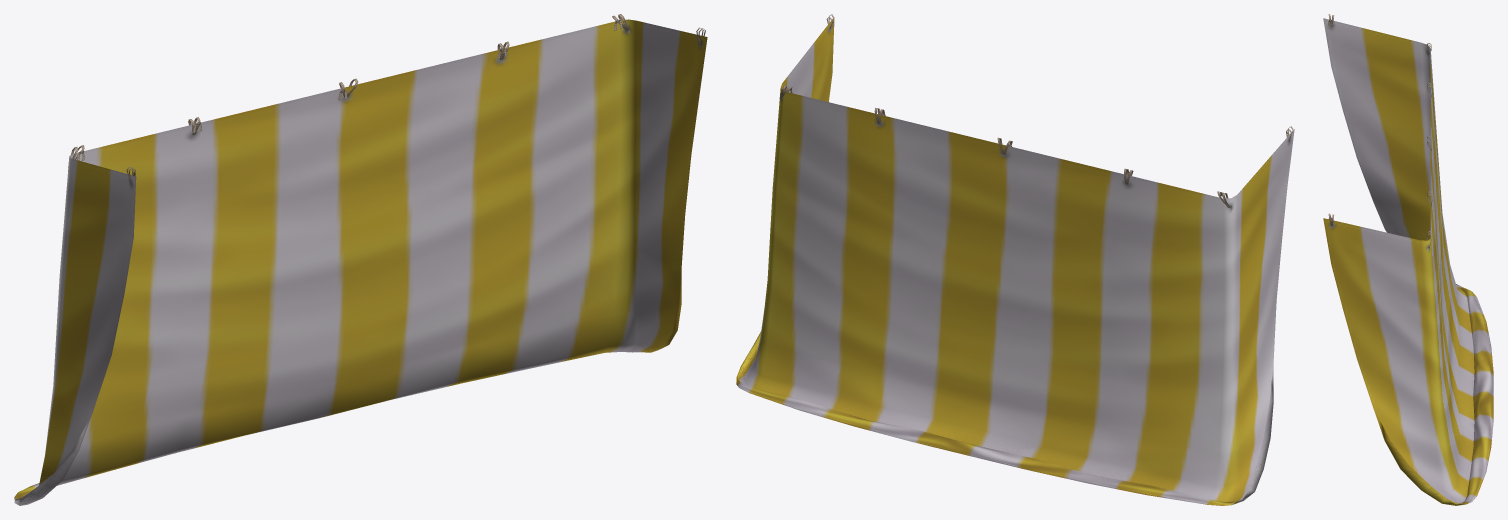
The model's file is jsf_BackSide_s03_c03_t01.fbx.
3 views of the same model, side by side, from view 1: azimuth 30°, elevation 25°; view 2: azimuth 150°, elevation 25°; view 3: azimuth 270°, elevation 25° (orthographic). The views are drawn at different scales.
Visible parts, largest first — view 1: jsf_BackSide_s03_c03_t01; view 2: jsf_BackSide_s03_c03_t01; view 3: jsf_BackSide_s03_c03_t01.
Part boxes in pixels (x1,y1,x2,y2): jsf_BackSide_s03_c03_t01: (14,14,707,505); jsf_BackSide_s03_c03_t01: (736,14,1294,505); jsf_BackSide_s03_c03_t01: (1323,14,1493,505).
Bounding box in the file's own units: 348 × 205 × 112.
